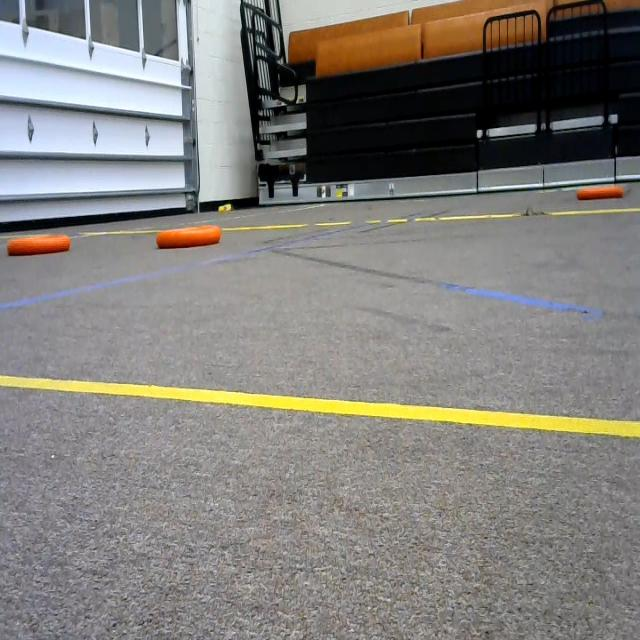note: (6, 230, 71, 260), (154, 224, 224, 247), (574, 183, 626, 203)
